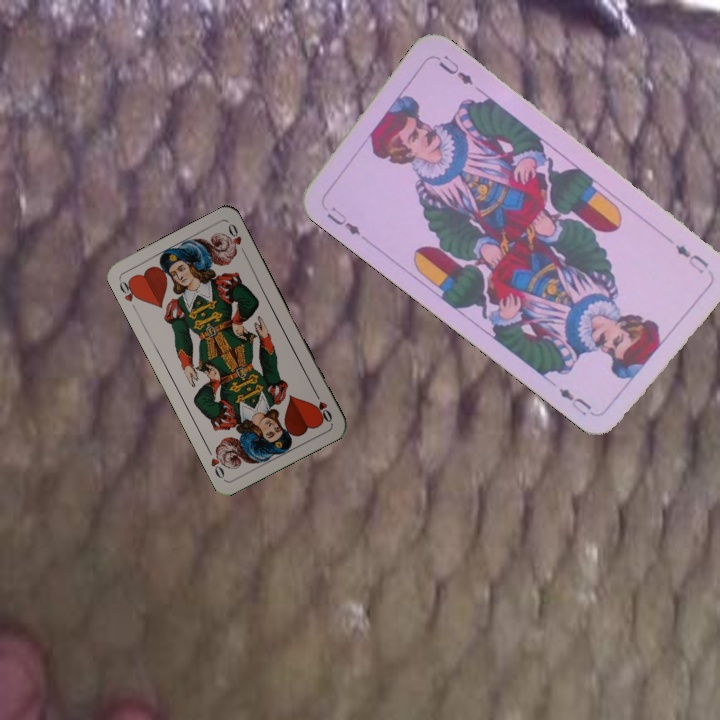EU: (322, 202, 364, 238), (671, 240, 711, 276)
HO: (310, 387, 335, 425), (115, 276, 142, 304)
